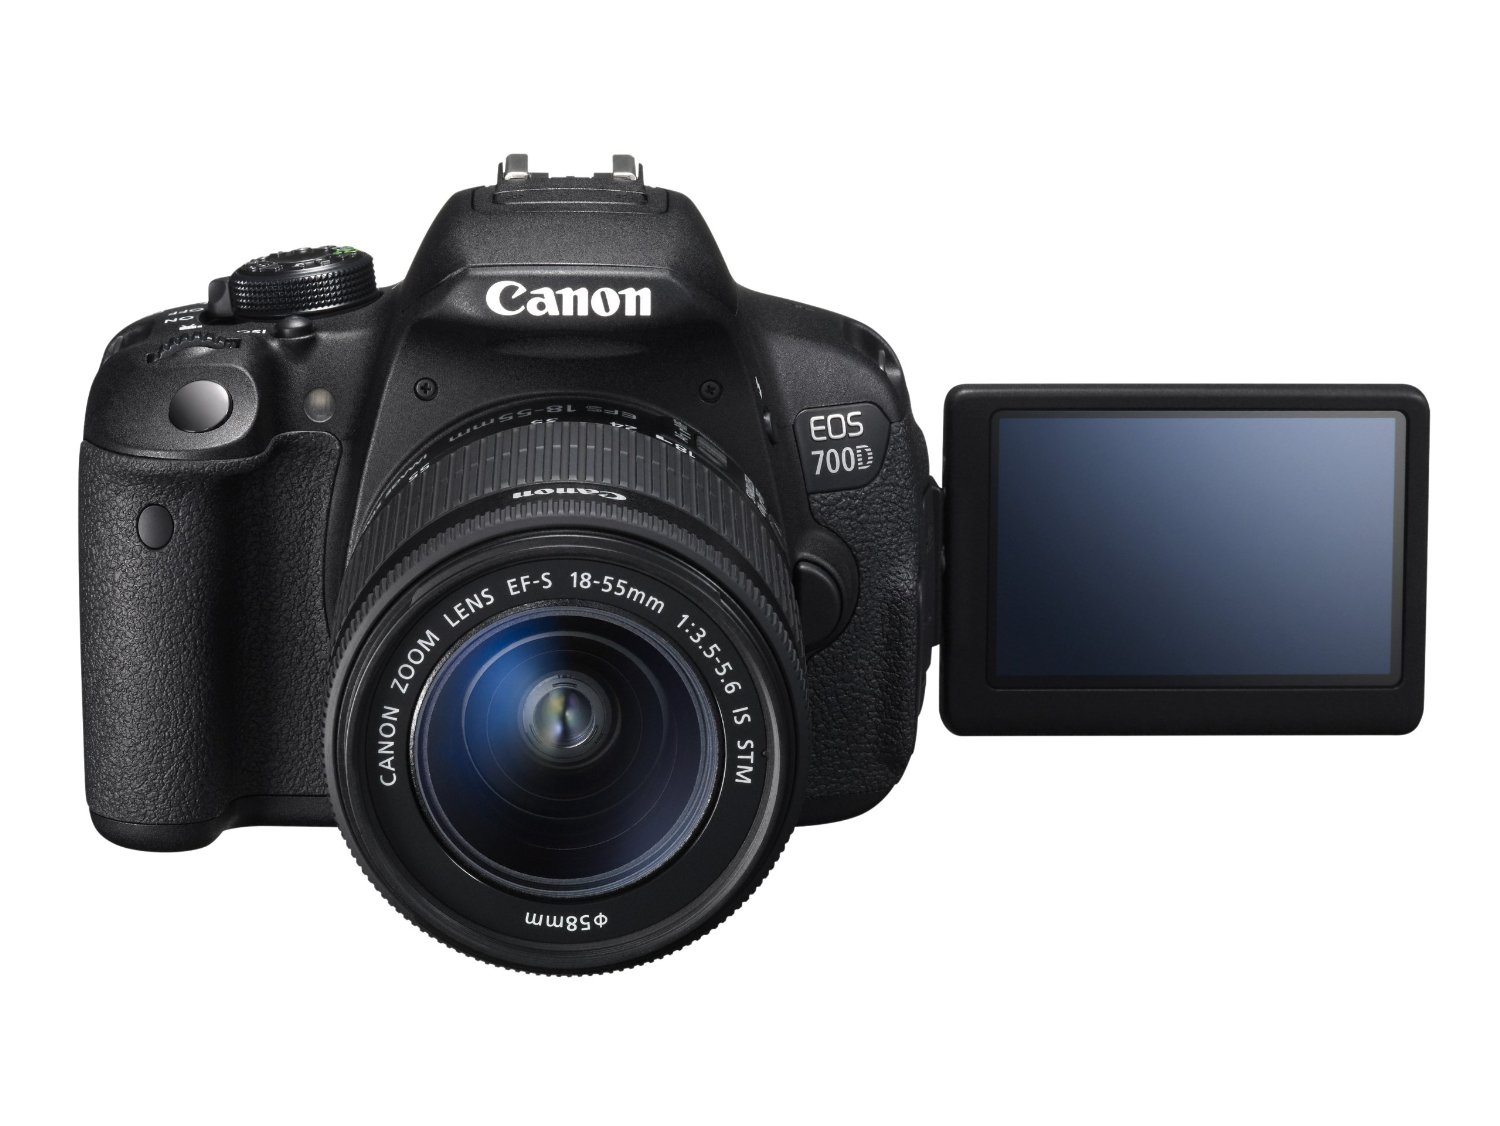kamera: (70, 130, 1436, 1003)
